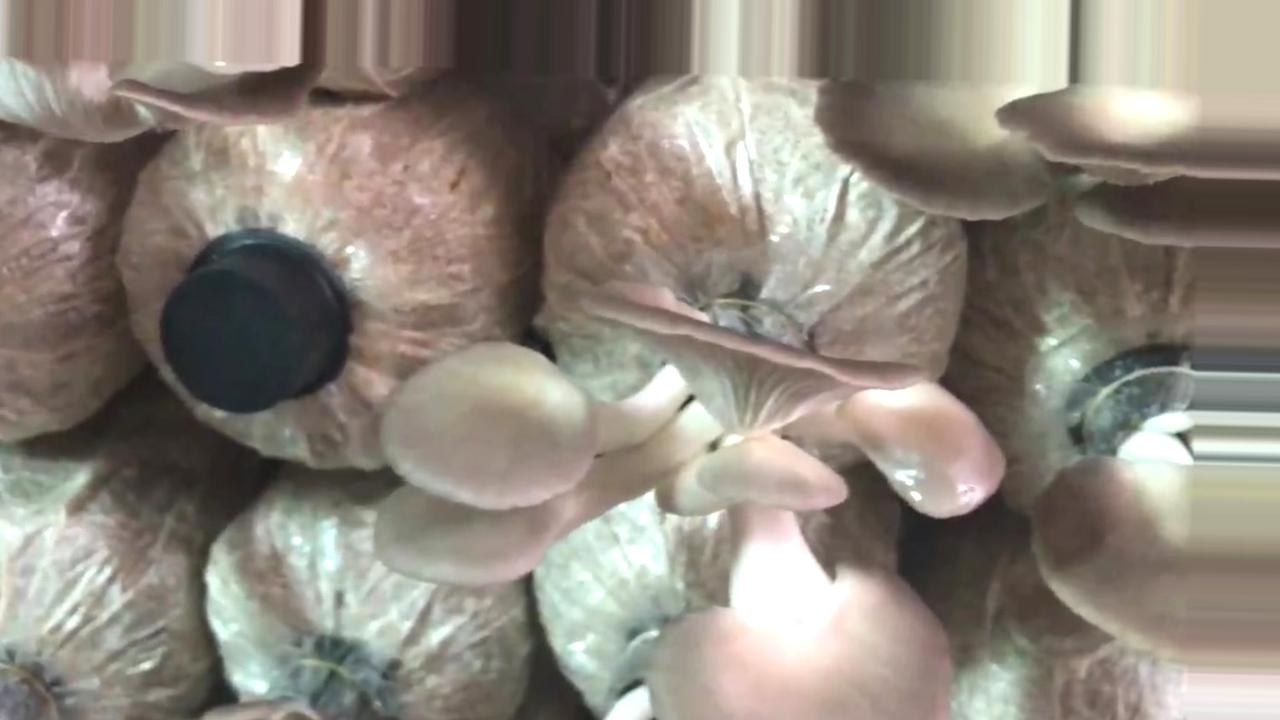nam: (367, 270, 1007, 720), (809, 78, 1280, 260), (1032, 356, 1280, 668)
